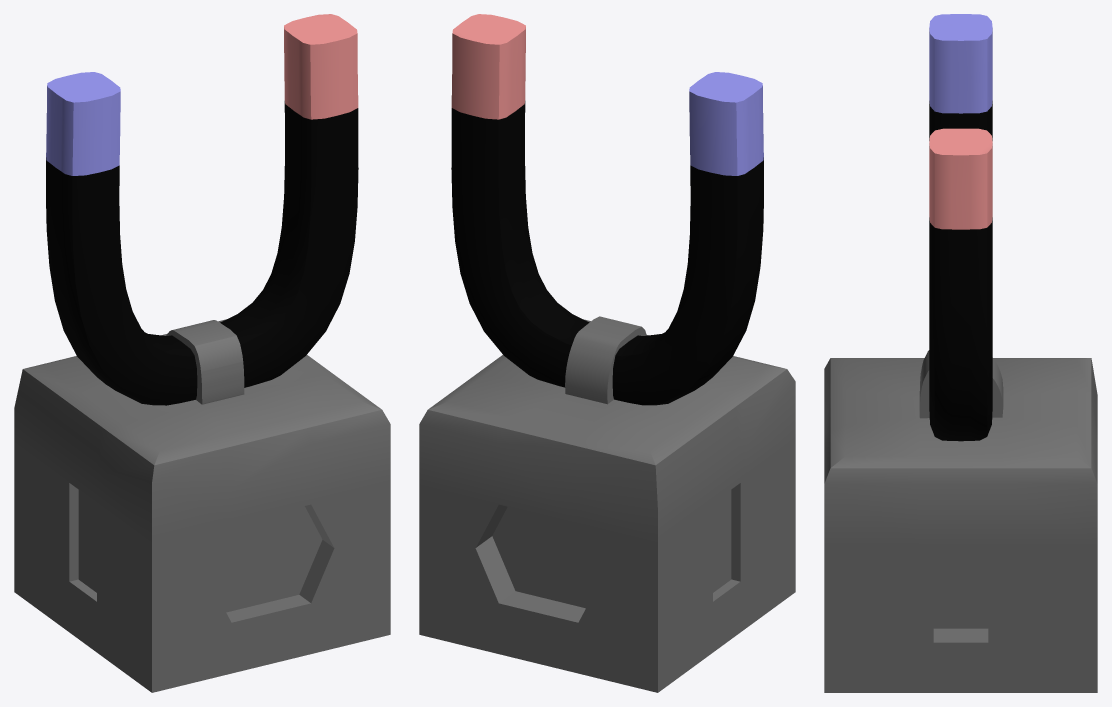
The model's file is Magnet.glb.
The picture shows the model from 3 angles, left to right: view 1: azimuth 30°, elevation 25°; view 2: azimuth 150°, elevation 25°; view 3: azimuth 270°, elevation 25°; orthographic projection.
Parts seen in each view (by area): view 1: magnet.001; view 2: magnet.001; view 3: magnet.001.
Part boxes in pixels (x1,y1,x2,y2): magnet.001: (14, 14, 390, 692); magnet.001: (419, 14, 795, 692); magnet.001: (824, 14, 1097, 692).
Size of the model in its own units: 0.5561 by 1 by 0.4509.
1 material, 1 textured.
